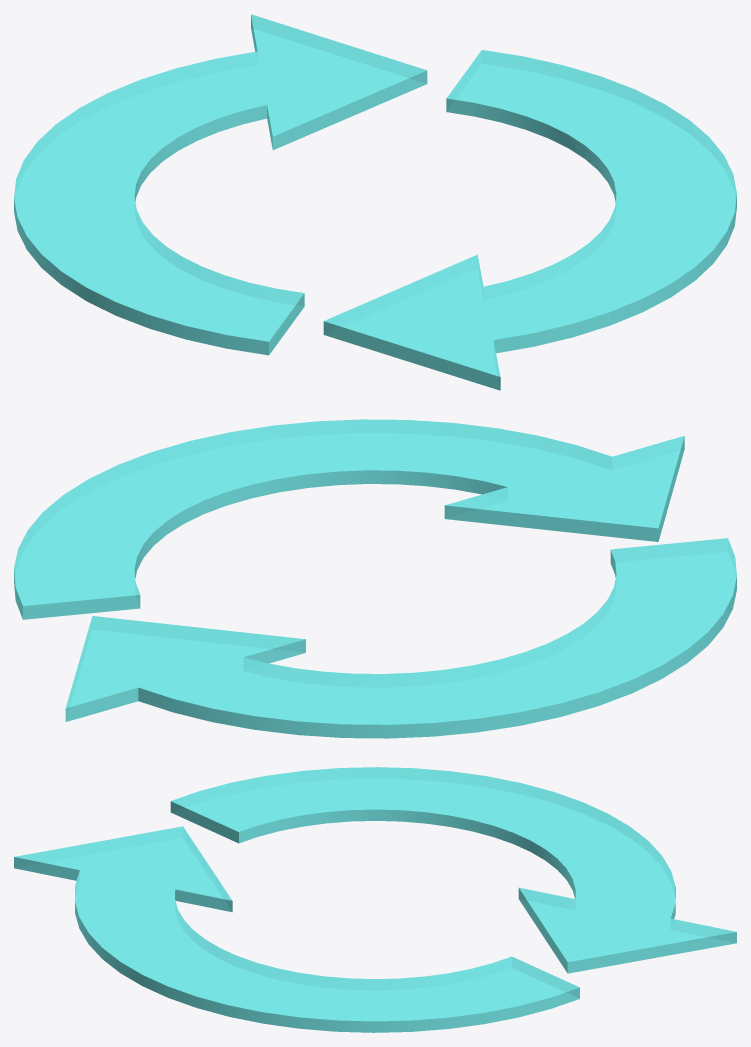
The model's file is RoundArrow.fbx.
The picture shows the model from 3 angles, top to bottom: view 1: azimuth 30°, elevation 25°; view 2: azimuth 150°, elevation 25°; view 3: azimuth 270°, elevation 25°; orthographic projection. The views are drawn at different scales.
Parts seen in each view (by area): view 1: group_0, group_0.001; view 2: group_0.001, group_0; view 3: group_0, group_0.001.
Part boxes in pixels (x1,y1,x2,y2): group_0: (14, 14, 427, 355); group_0.001: (323, 50, 736, 390); group_0.001: (14, 419, 684, 619); group_0: (65, 538, 736, 738); group_0: (170, 767, 736, 973); group_0.001: (14, 826, 579, 1032).
Size of the model in its own units: 2400 by 50 by 2883.
